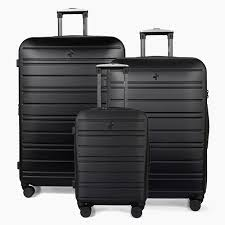suitcase: (18, 9, 126, 198), (108, 28, 211, 211), (71, 63, 149, 218)
